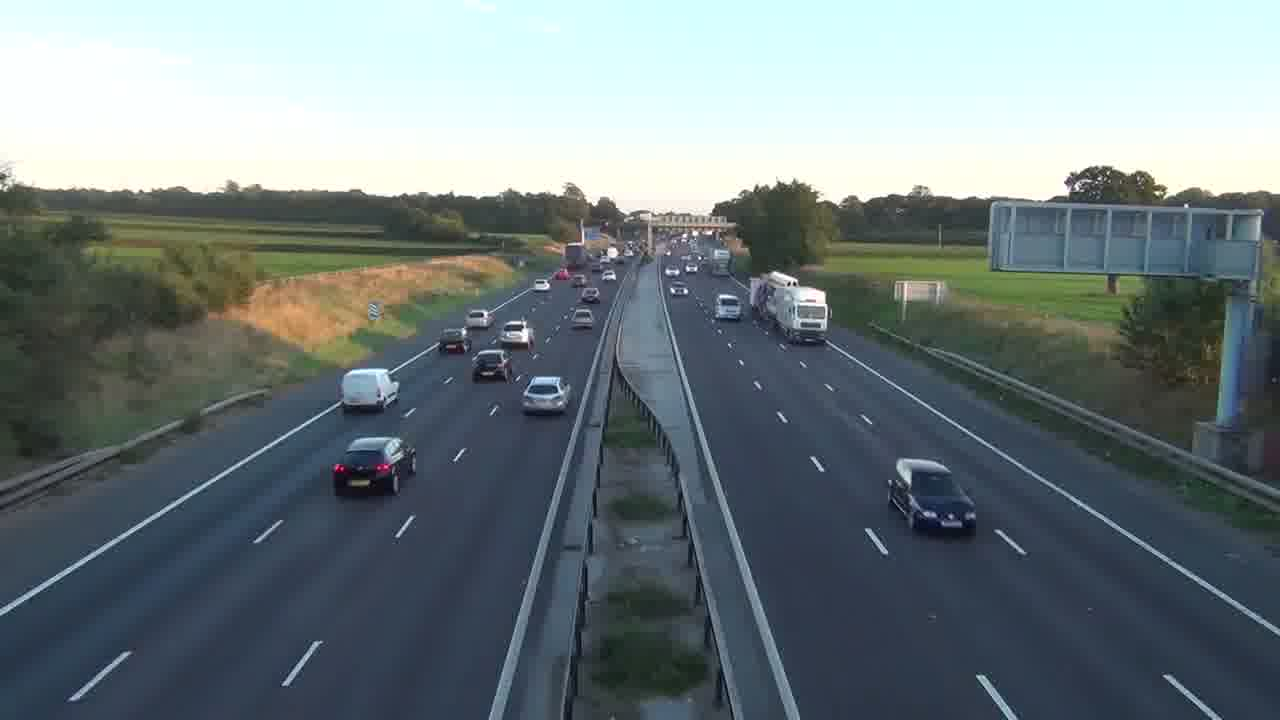car: (887, 457, 977, 535), (330, 435, 416, 496), (521, 375, 570, 416), (471, 350, 514, 382), (571, 307, 595, 330)
truck: (340, 368, 400, 412)
